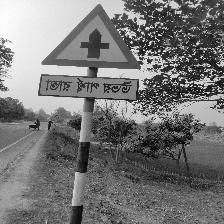Crossroad: (29, 3, 142, 101)
